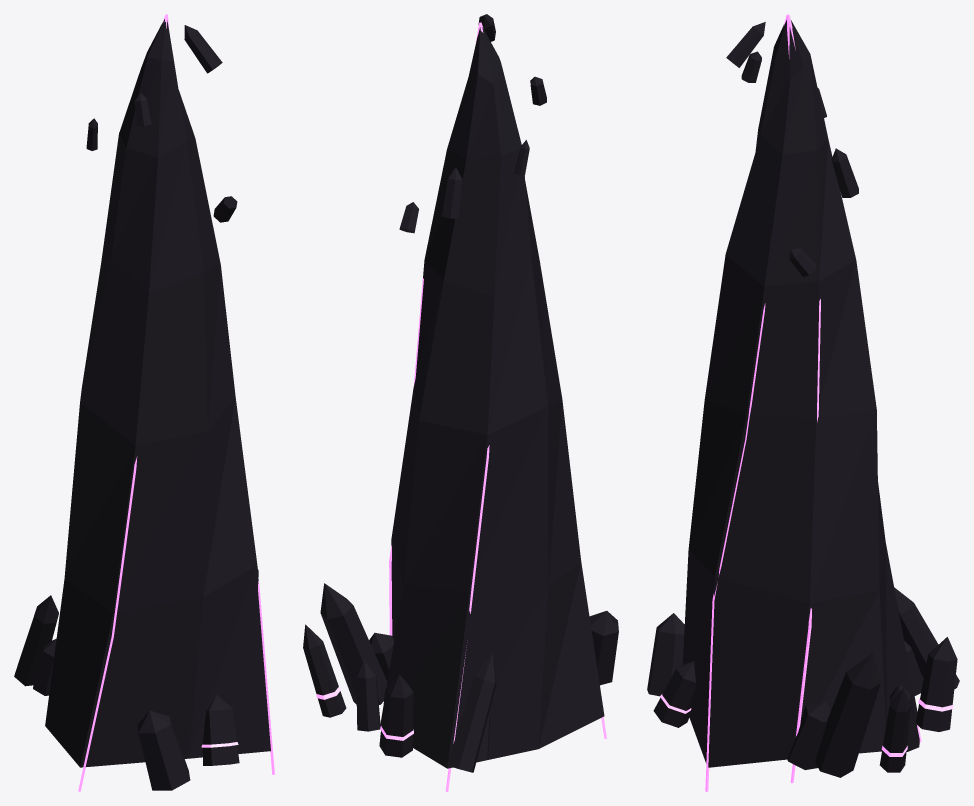
The model's file is the_spire.glb.
The picture shows the model from 3 angles, left to right: view 1: azimuth 30°, elevation 25°; view 2: azimuth 150°, elevation 25°; view 3: azimuth 270°, elevation 25°; orthographic projection. The views are drawn at different scales.
Parts seen in each view (by area): view 1: the_spire; view 2: the_spire; view 3: the_spire.
Part boxes in pixels (<box>): the_spire: <box>14,14,274,791</box>; the_spire: <box>303,14,618,791</box>; the_spire: <box>647,14,959,791</box>.
Bounding box in the file's own units: 21.3 × 64.18 × 24.43.
